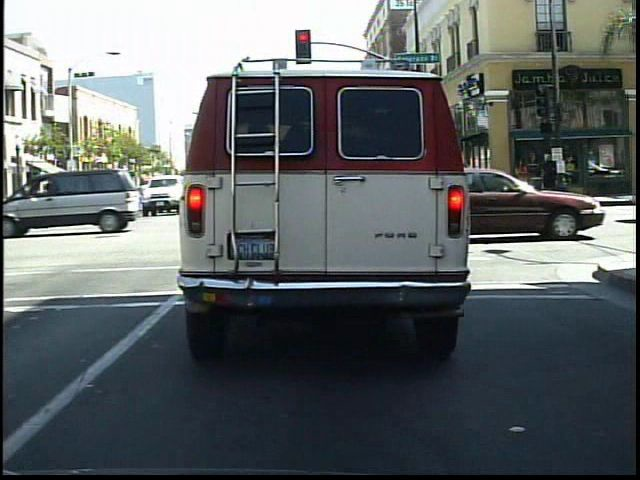person: (538, 152, 562, 206), (513, 156, 534, 203)
